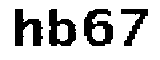6: (82, 4, 114, 48)
7: (118, 7, 153, 51)
b: (46, 5, 77, 50)
h: (11, 3, 43, 52)
